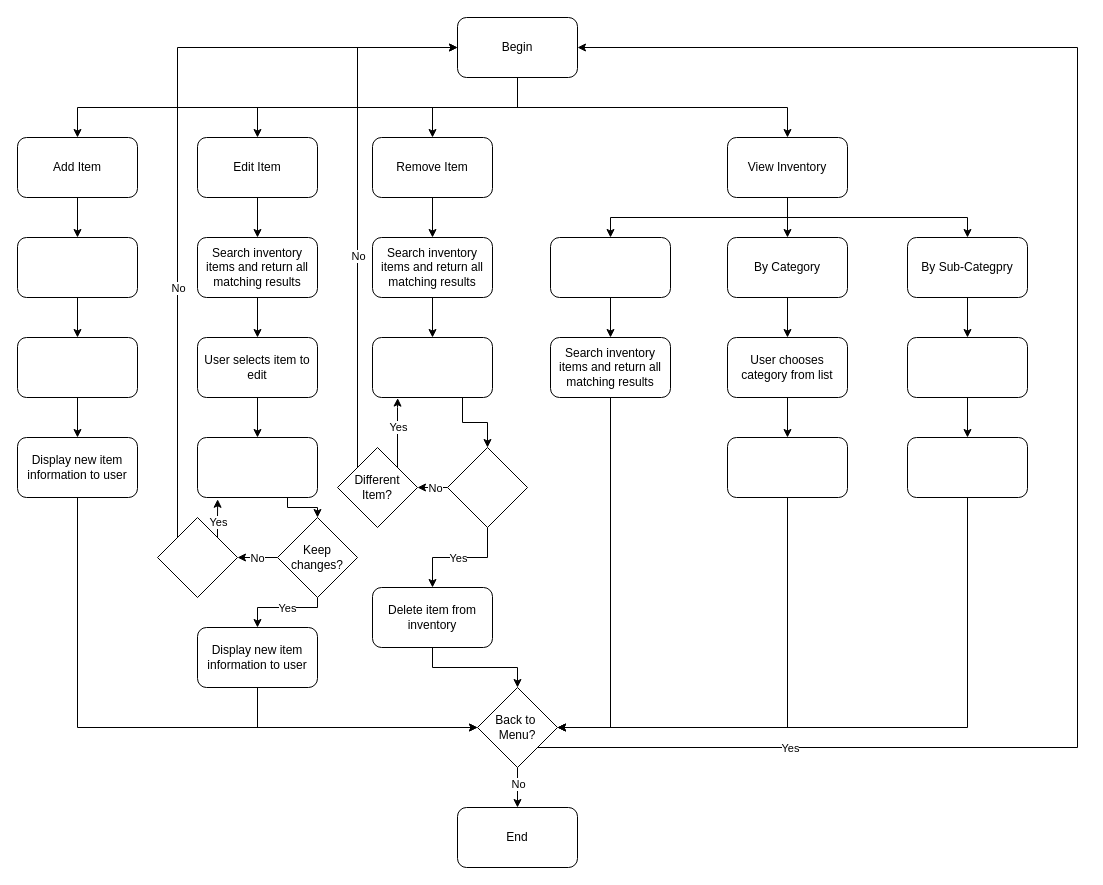
Some shapes in this 1103 by 885 pixel diagram are drawn without their labels. The centre of each missing label's shape, as x and y in pixels:
"Create new hash containing item information" belongs at point 77,367.
"Different changes?" belongs at point 197,557.
"Display all items in chosen category" belongs at point 787,467.
"Display all items in chosen sub-category" belongs at point 967,467.
"Item Search" belongs at point 610,267.
"Remove Item?" belongs at point 487,487.
"User chooses sub-category from list" belongs at point 967,367.
"User edits item information" belongs at point 257,467.
"User inputs item information (name, SKU, qty, etc)" belongs at point 77,267.
"User selects item to remove" belongs at point 432,367.
